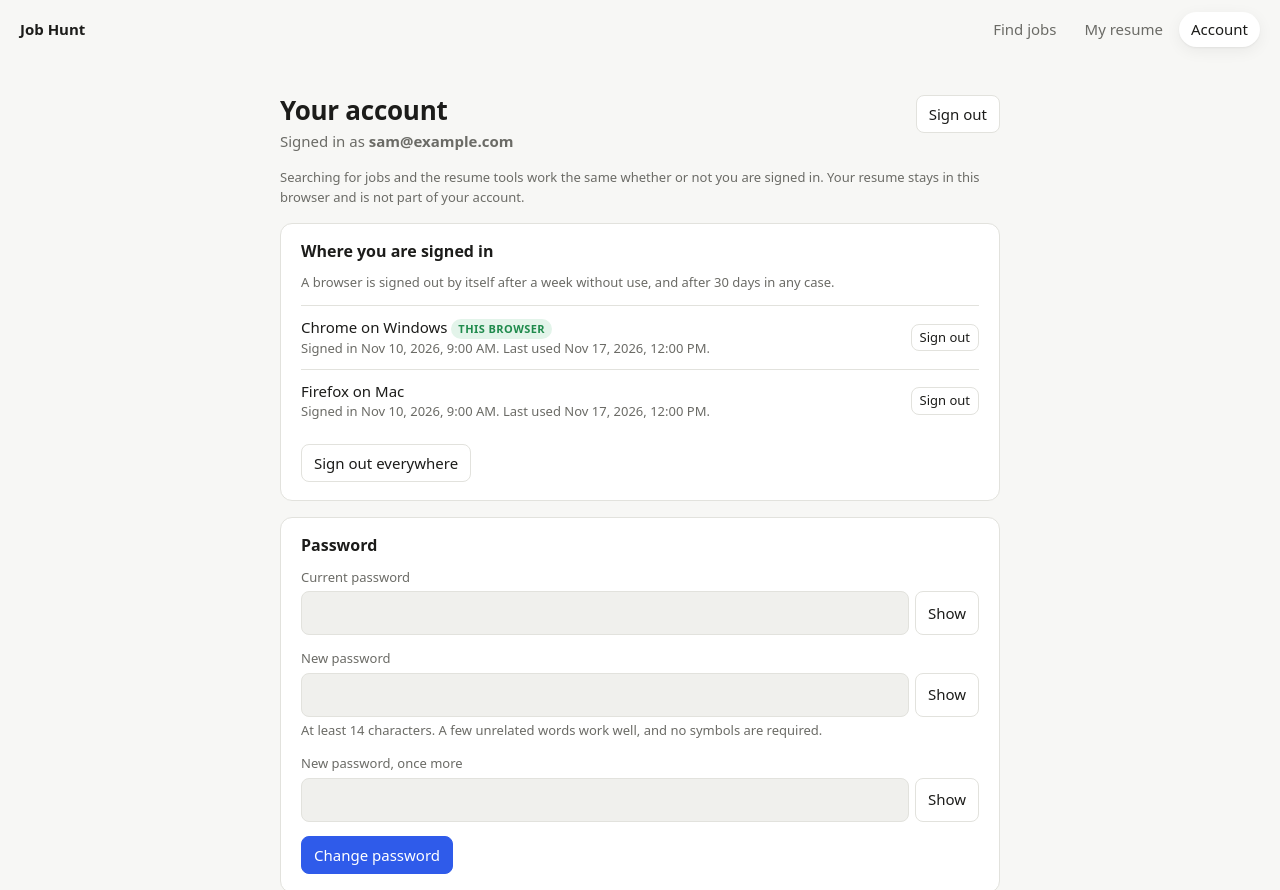
Test case: changing the password › changes it, says the other browsers were signed out, and empties the form
Check: the text "Signed in as sam@example.com" is shown, box [280,130,513,152]
Step 1. Type "correct horse battery staple" into the password field labelled "Current password" → [605, 613], box [301,591,909,635]
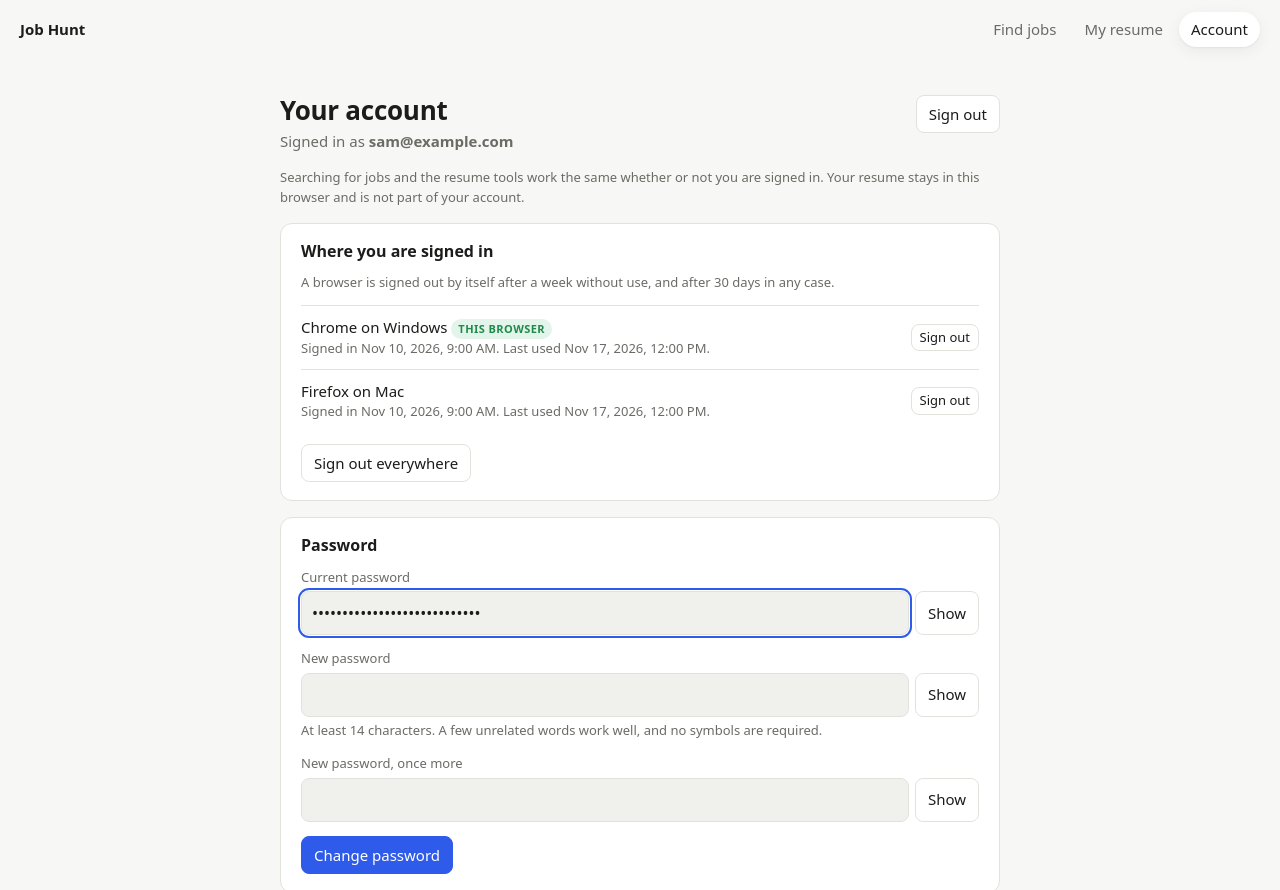
Step 2. Type "another four unrelated words" into the password field labelled "New password" → [605, 695], box [301,673,909,717]
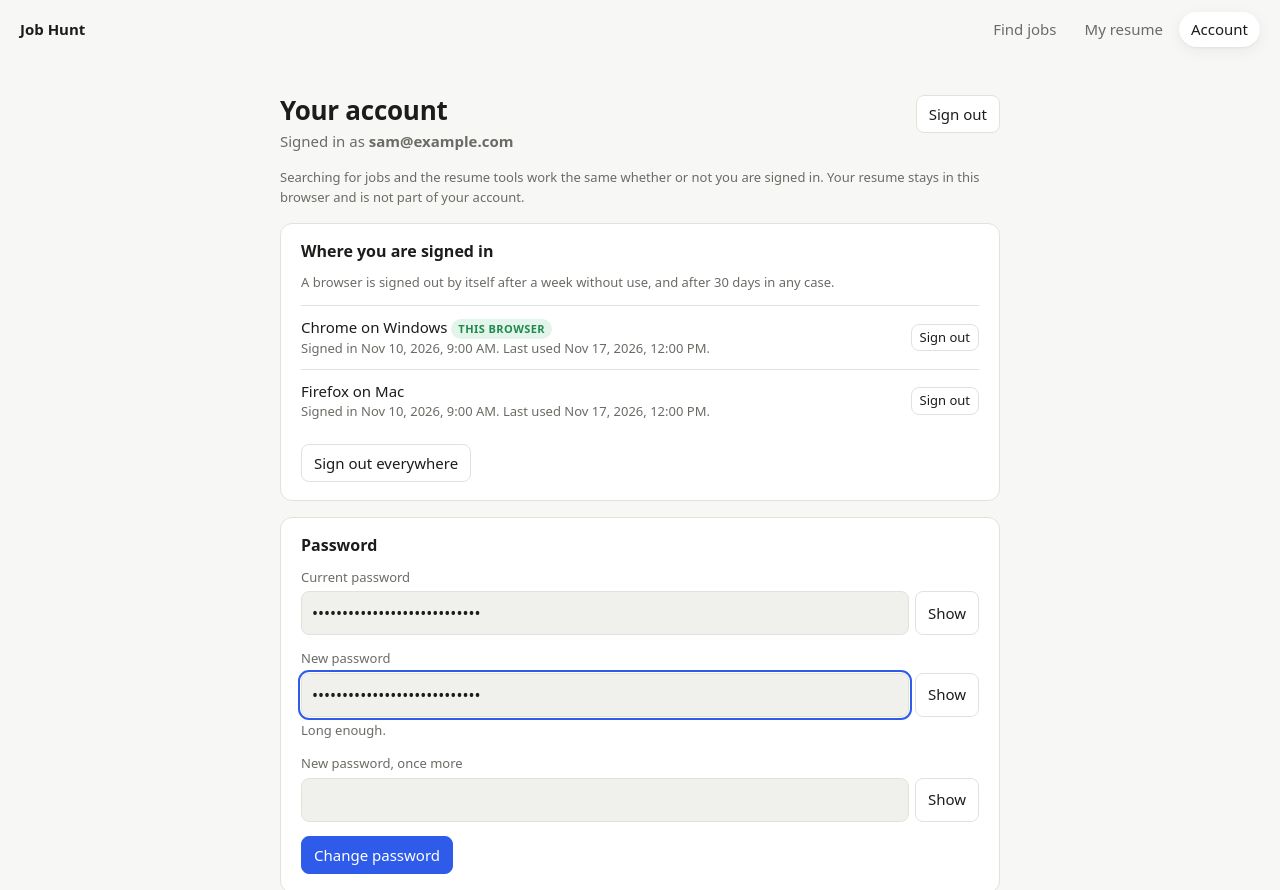
Step 3. Type "another four unrelated words" into the password field labelled "New password, once more" → [605, 800], box [301,778,909,822]
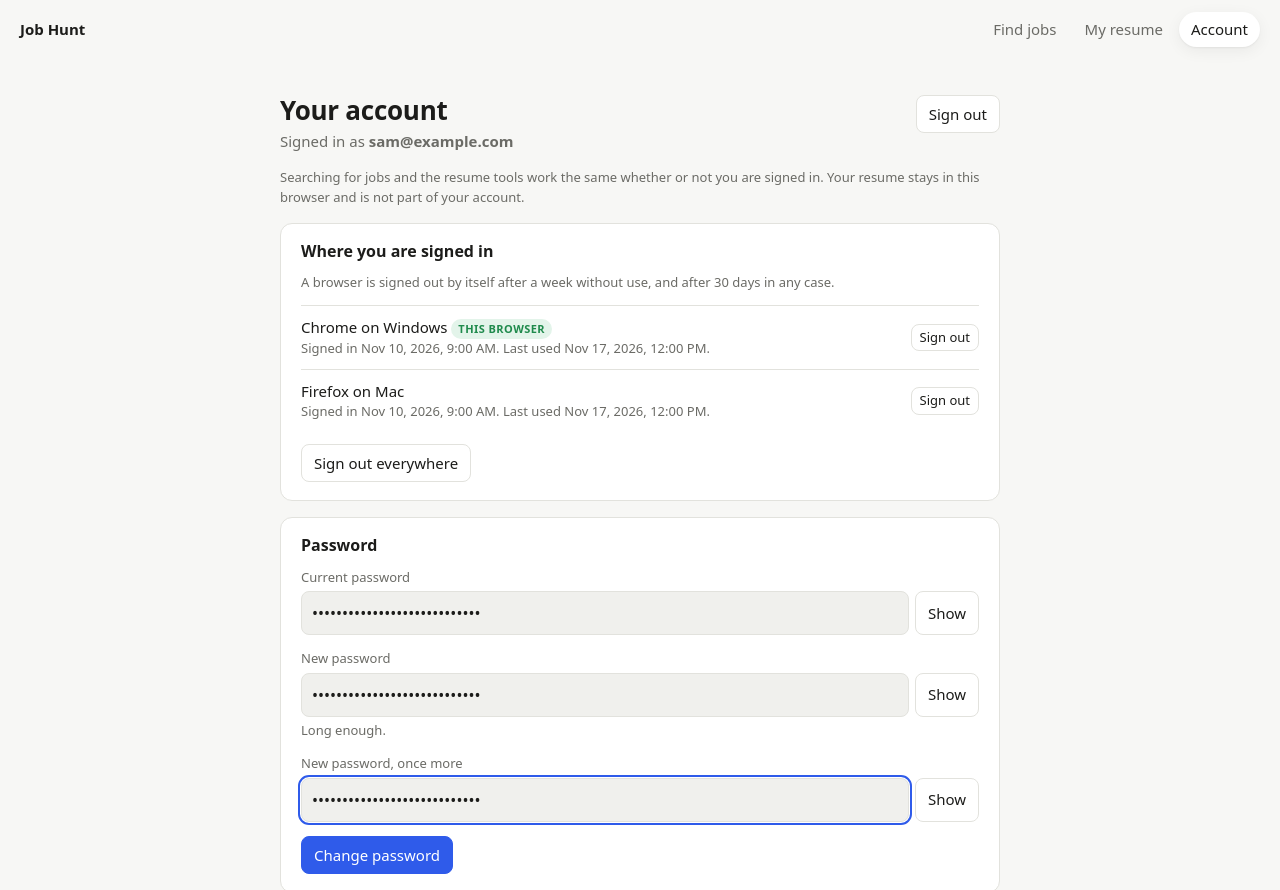
Step 4. Click the button "Change password" → [377, 855], box [301,836,453,874]
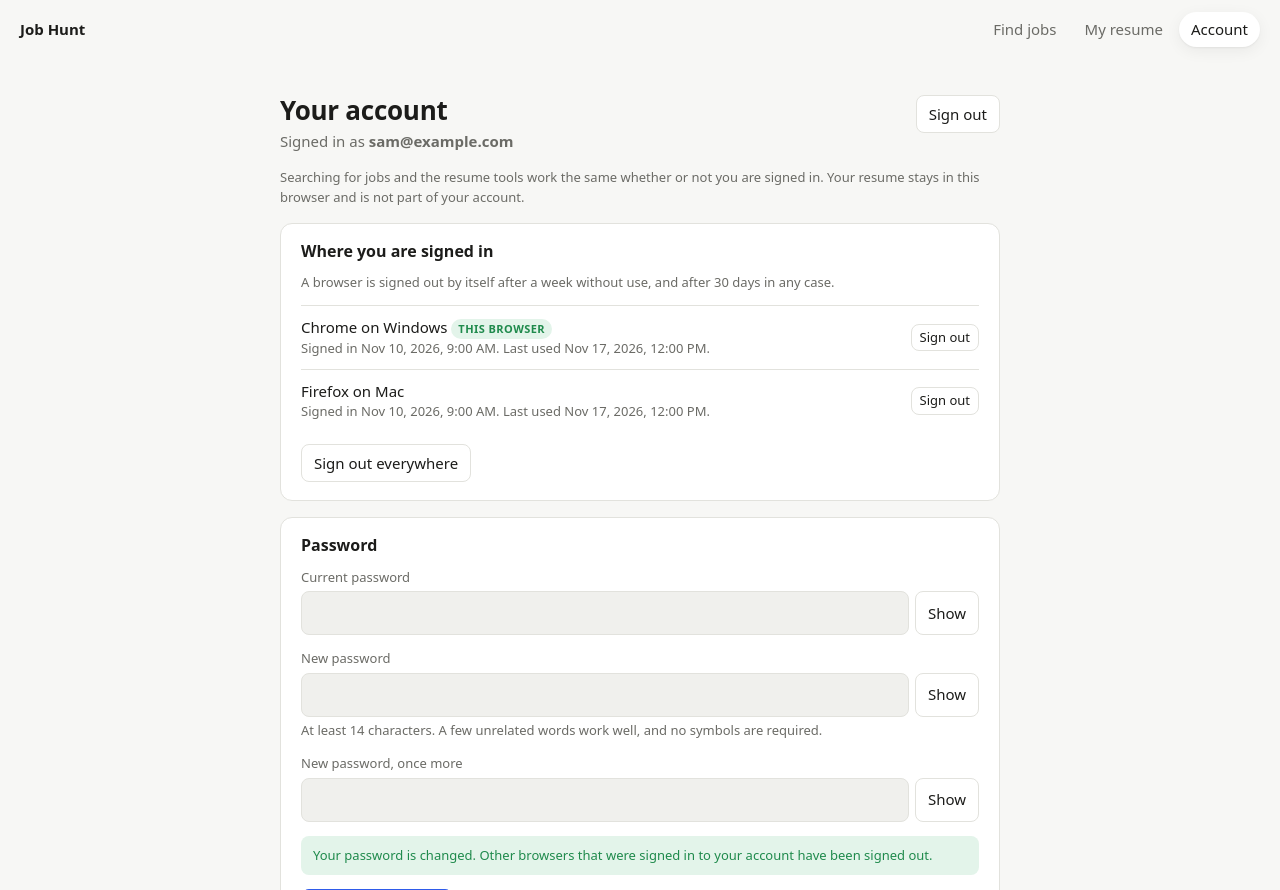
Check: the message shows "Your password is changed. Other browsers that were signed in to your account have been signed out.", box [313,846,932,864]
Check: the password field labelled "Current password" is empty, box [301,591,909,635]
Check: the password field labelled "New password" is empty, box [301,673,909,717]
